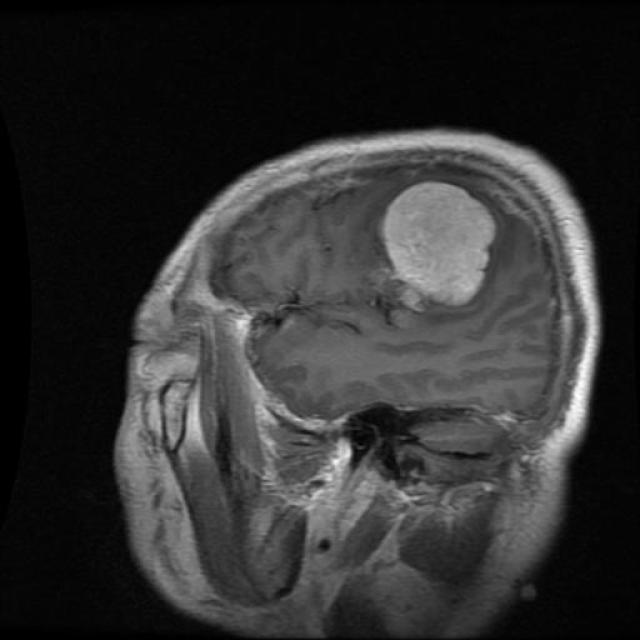meningioma: (382, 182, 495, 305)
